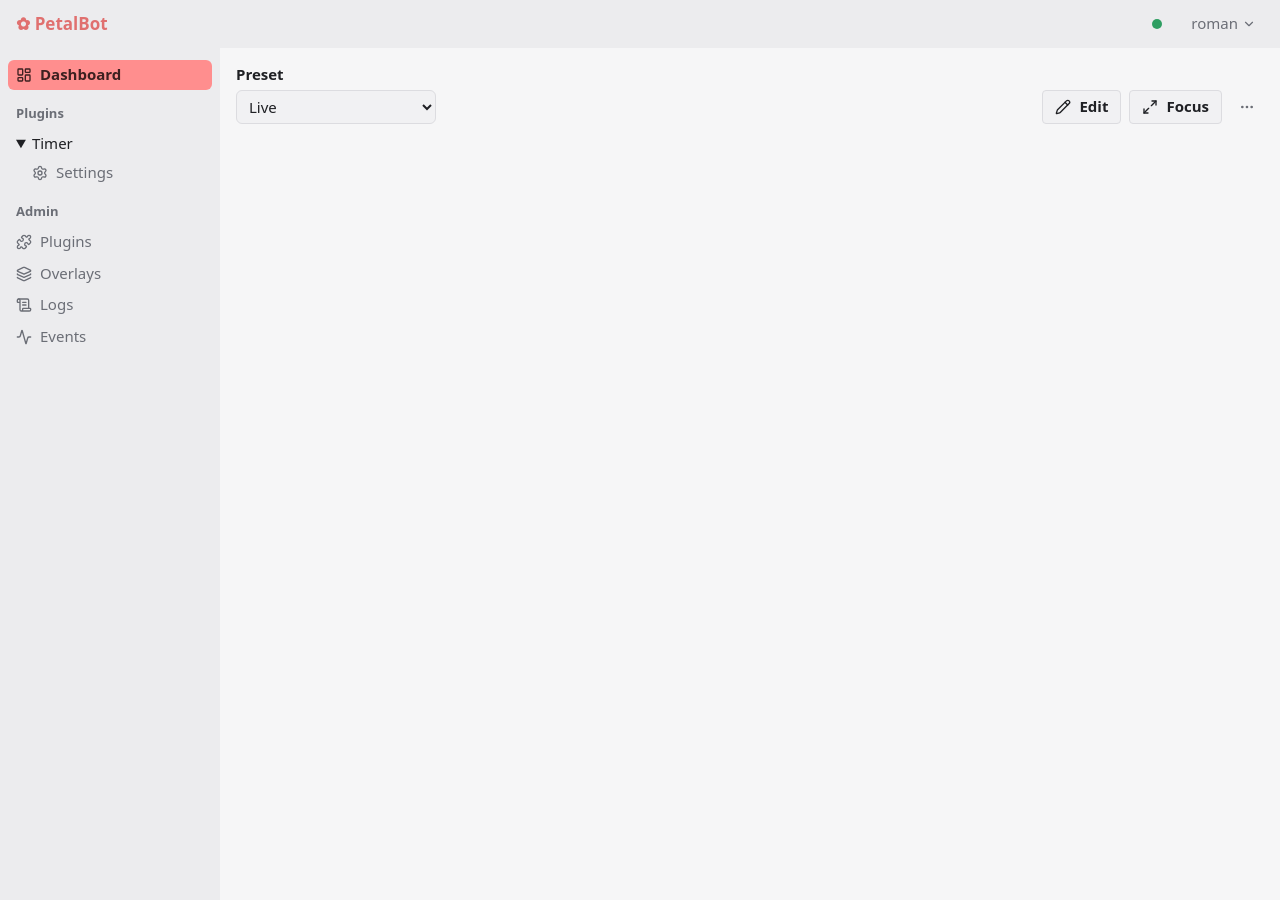
it: widget instances › shows config fields JSON Schema cannot describe as unsupported instead of crashing
Step 1. Click the button "Edit" → x=1082, y=107, box 1042,90 -> 1122,124
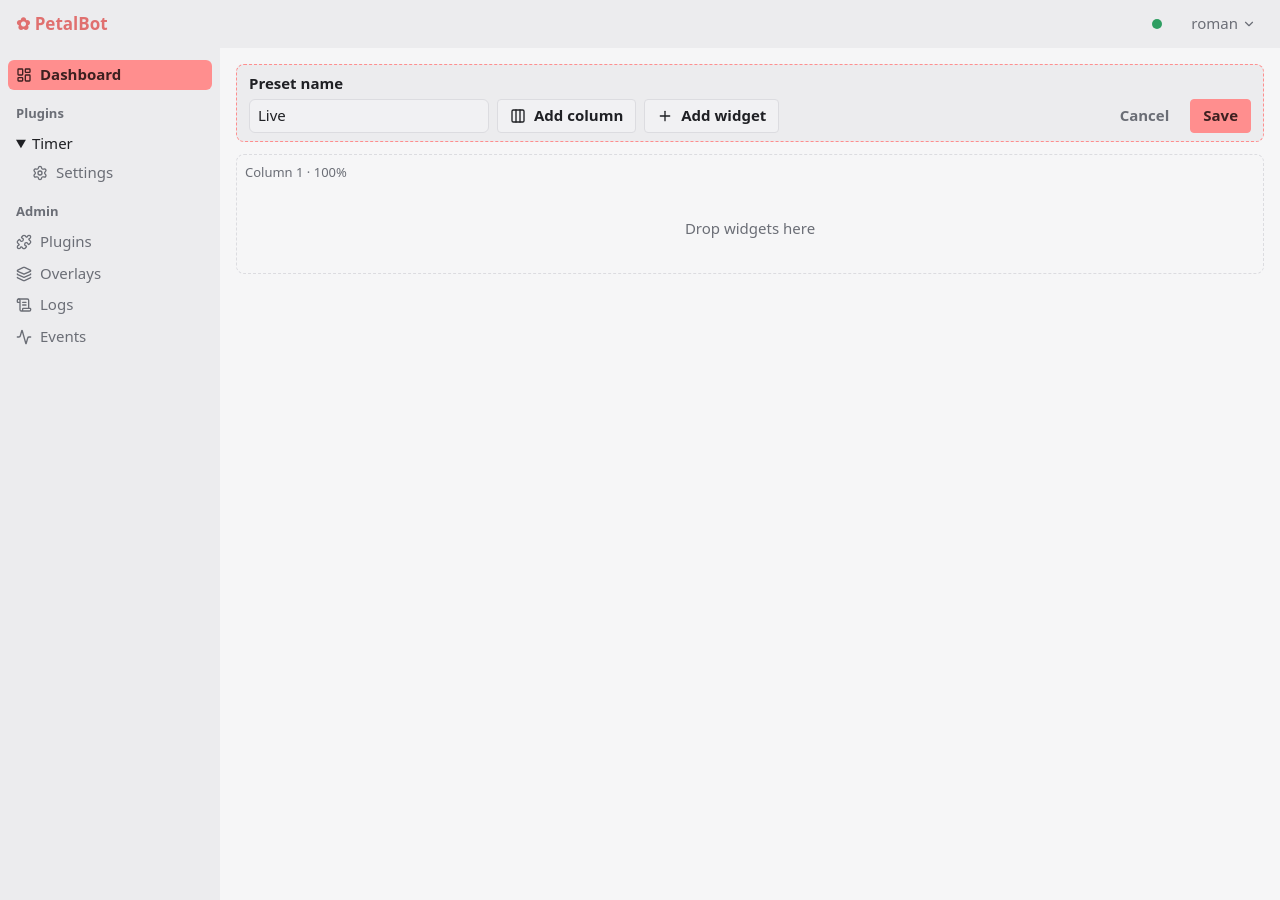
Step 2. Click the button "Add widget" → x=712, y=116, box 644,99 -> 779,133
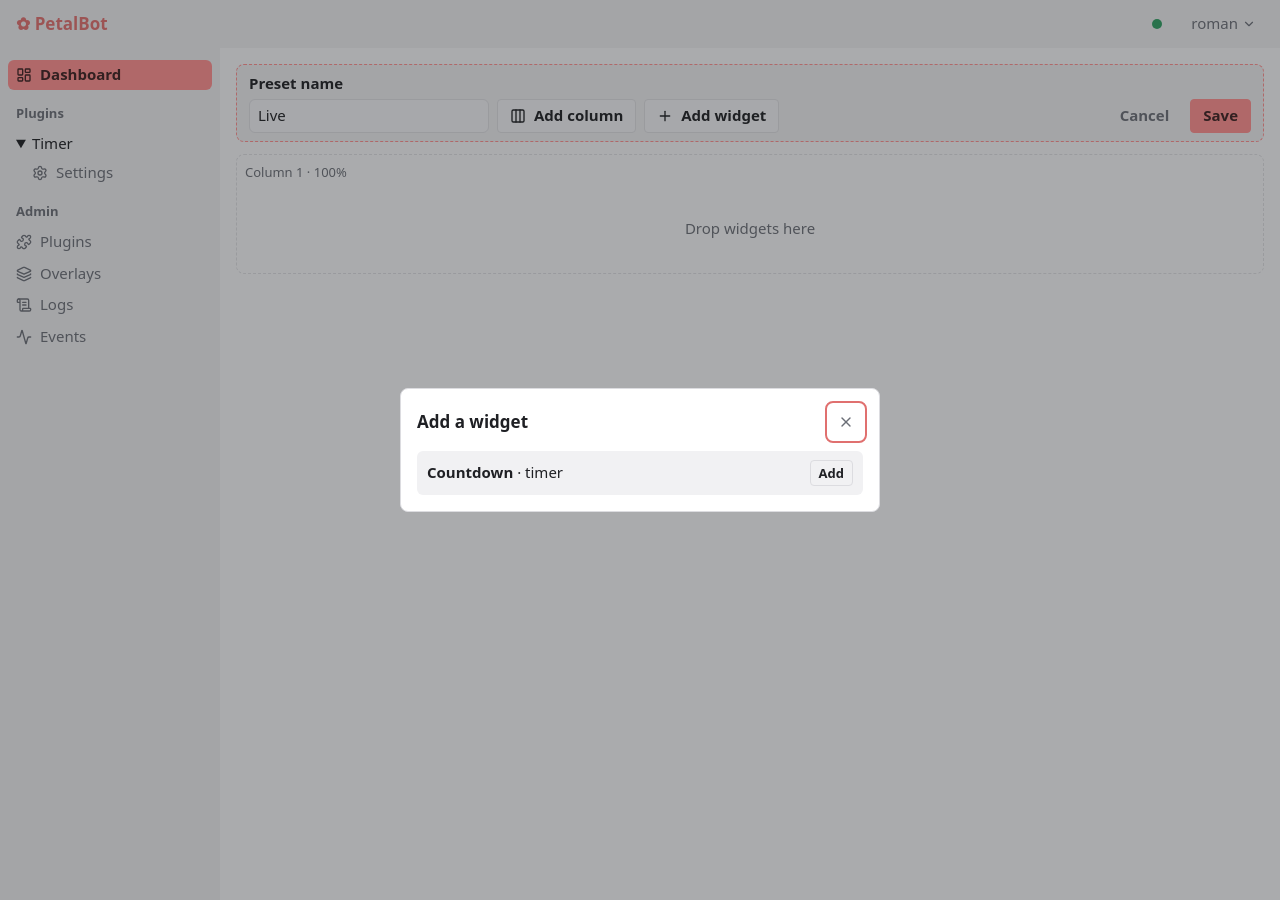
Step 3. Click the button with aria-label "Add Countdown" → x=831, y=473, box 810,460 -> 853,486
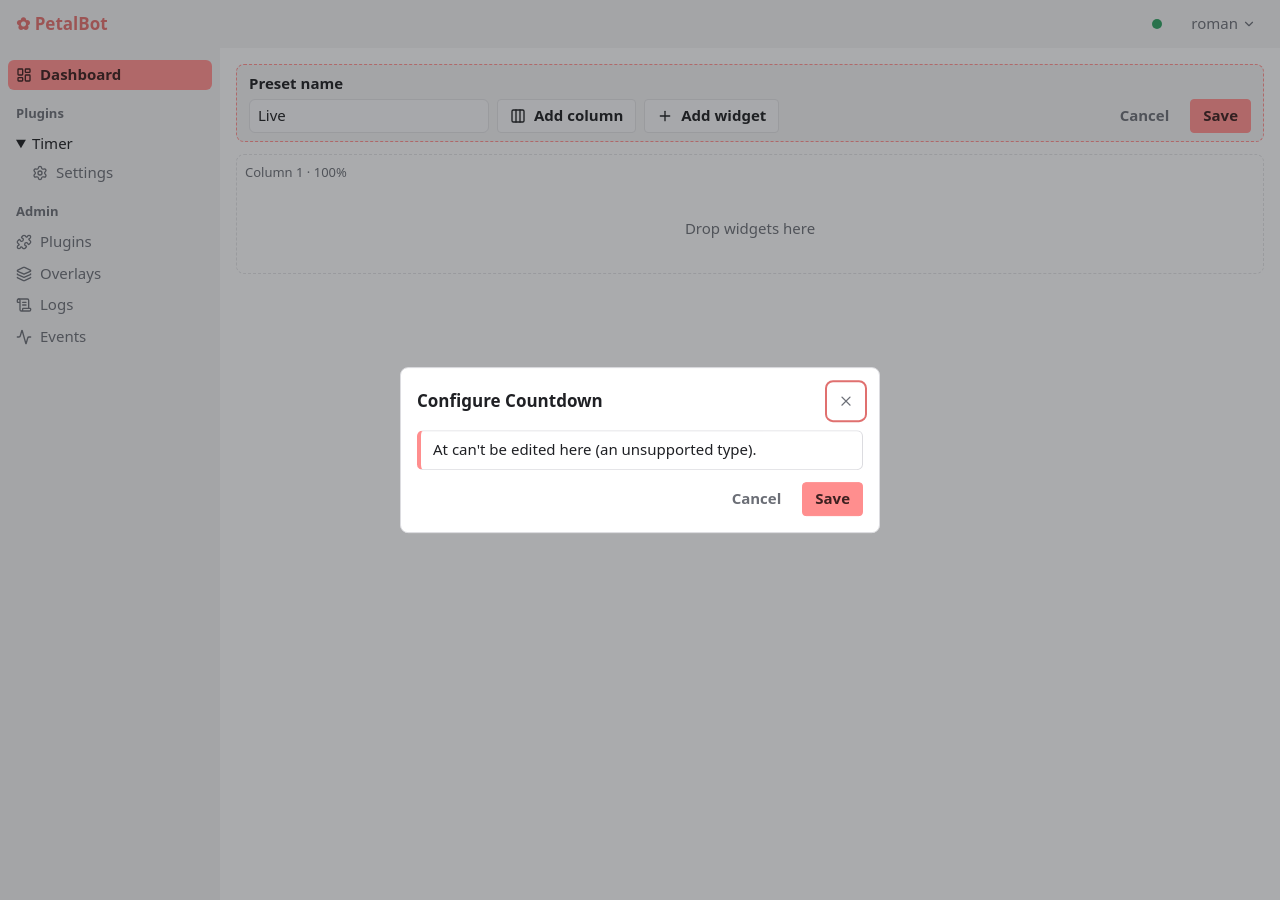
Expected: the text "At can't be edited here (an unsupported type)." is shown, 433,439 -> 757,459
